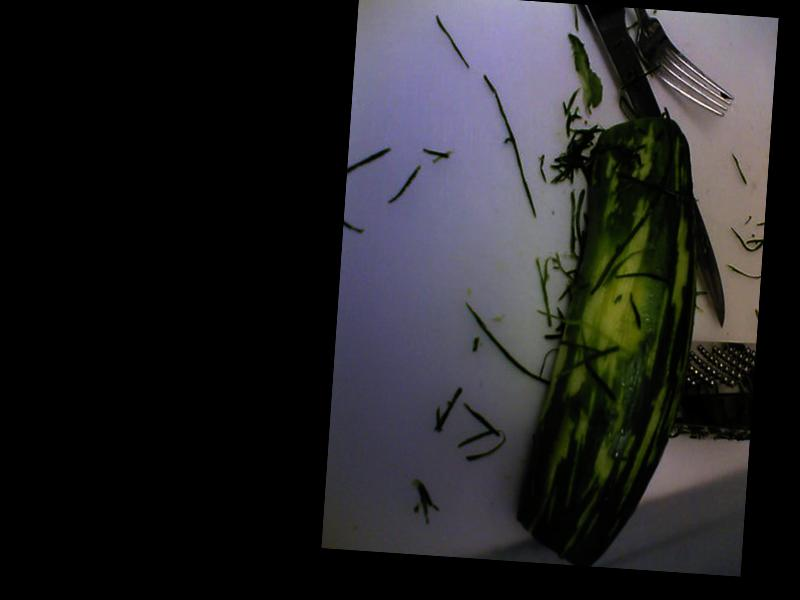Cucumber: (513, 108, 707, 569)
